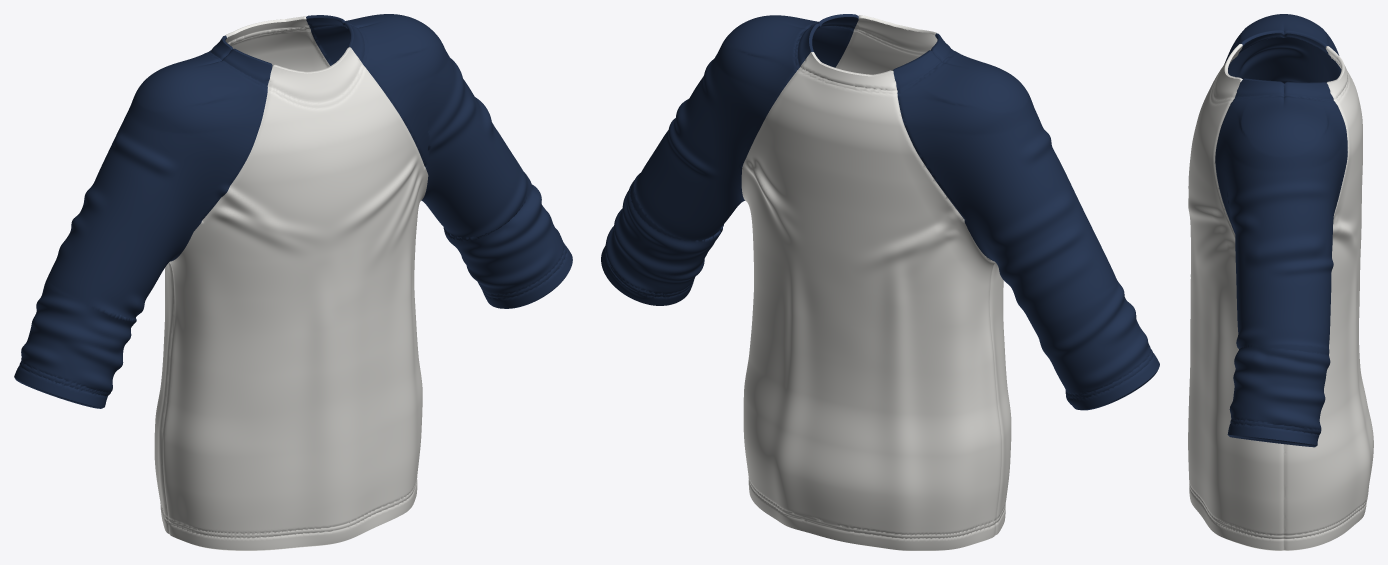
File: 08_camiseta_raglan.glb
3 renders of one model, left to right at view 1: azimuth 30°, elevation 25°; view 2: azimuth 150°, elevation 25°; view 3: azimuth 270°, elevation 25°, orthographic. The views are drawn at different scales.
Visible parts, largest first — view 1: body, secondary; view 2: body, secondary; view 3: secondary, body.
Part boxes in pixels (x1,y1,x2,y2): body: (154,16,428,550); secondary: (14,14,572,408); body: (741,15,1011,550); secondary: (601,14,1159,410); secondary: (1215,14,1347,447); body: (1188,44,1373,550).
Size of the model in its own units: 0.8762 by 0.7277 by 0.2769.
